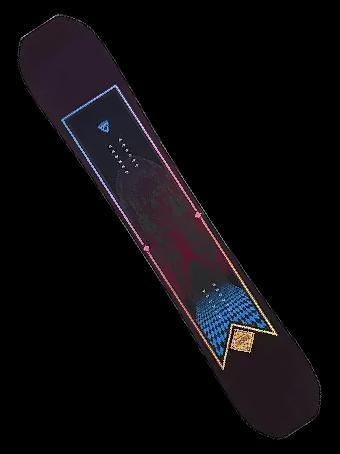Snowboard: (16, 12, 322, 440)
